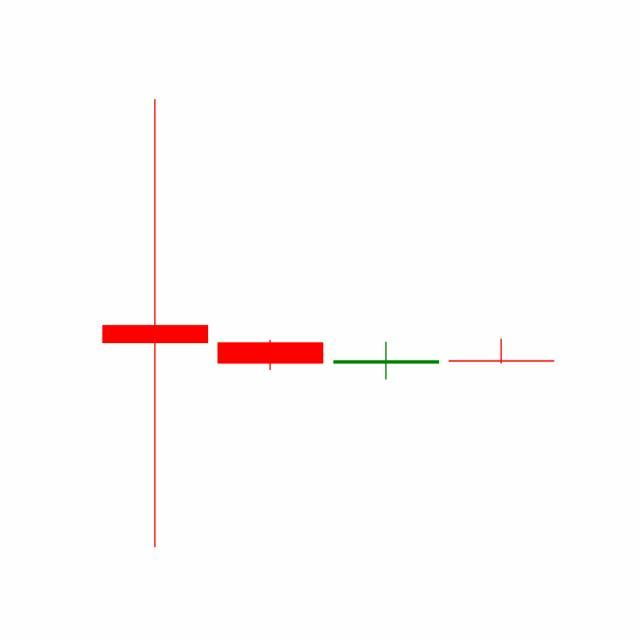Spinning Top: (329, 341, 445, 381)
